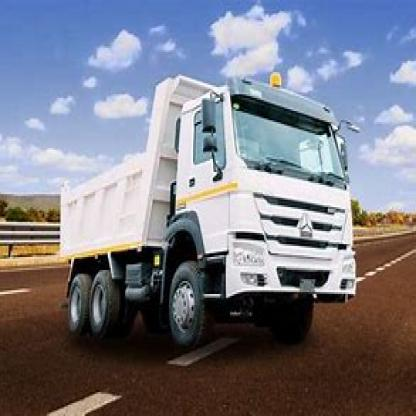dump_truck: (52, 57, 356, 357)
